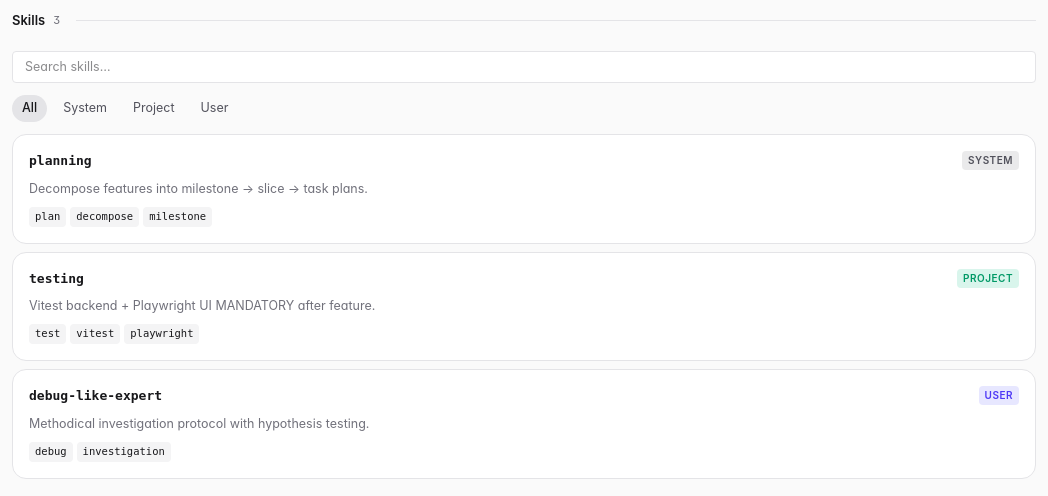
Test case: SkillsPane — uncontrolled search filtering › typing narrows the visible skill list
Expected: the number of elements with test id "skill-row" is 3, [29,151,1019,227]; [29,269,1019,344]; [29,386,1019,462]
Type "vitest" into the search field labelled "Search skills…" at (524,67), box [12,50,1036,83]
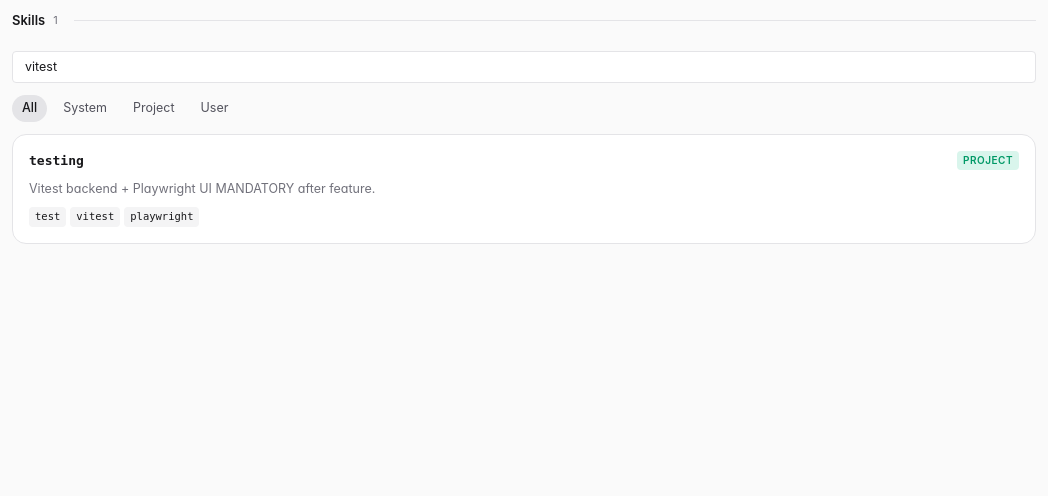
Expected: the text with test id "skill-row-name" reads "testing", [29,153,84,168]
Result: the number of elements with test id "skill-row" is 1 at [29,151,1019,227]
